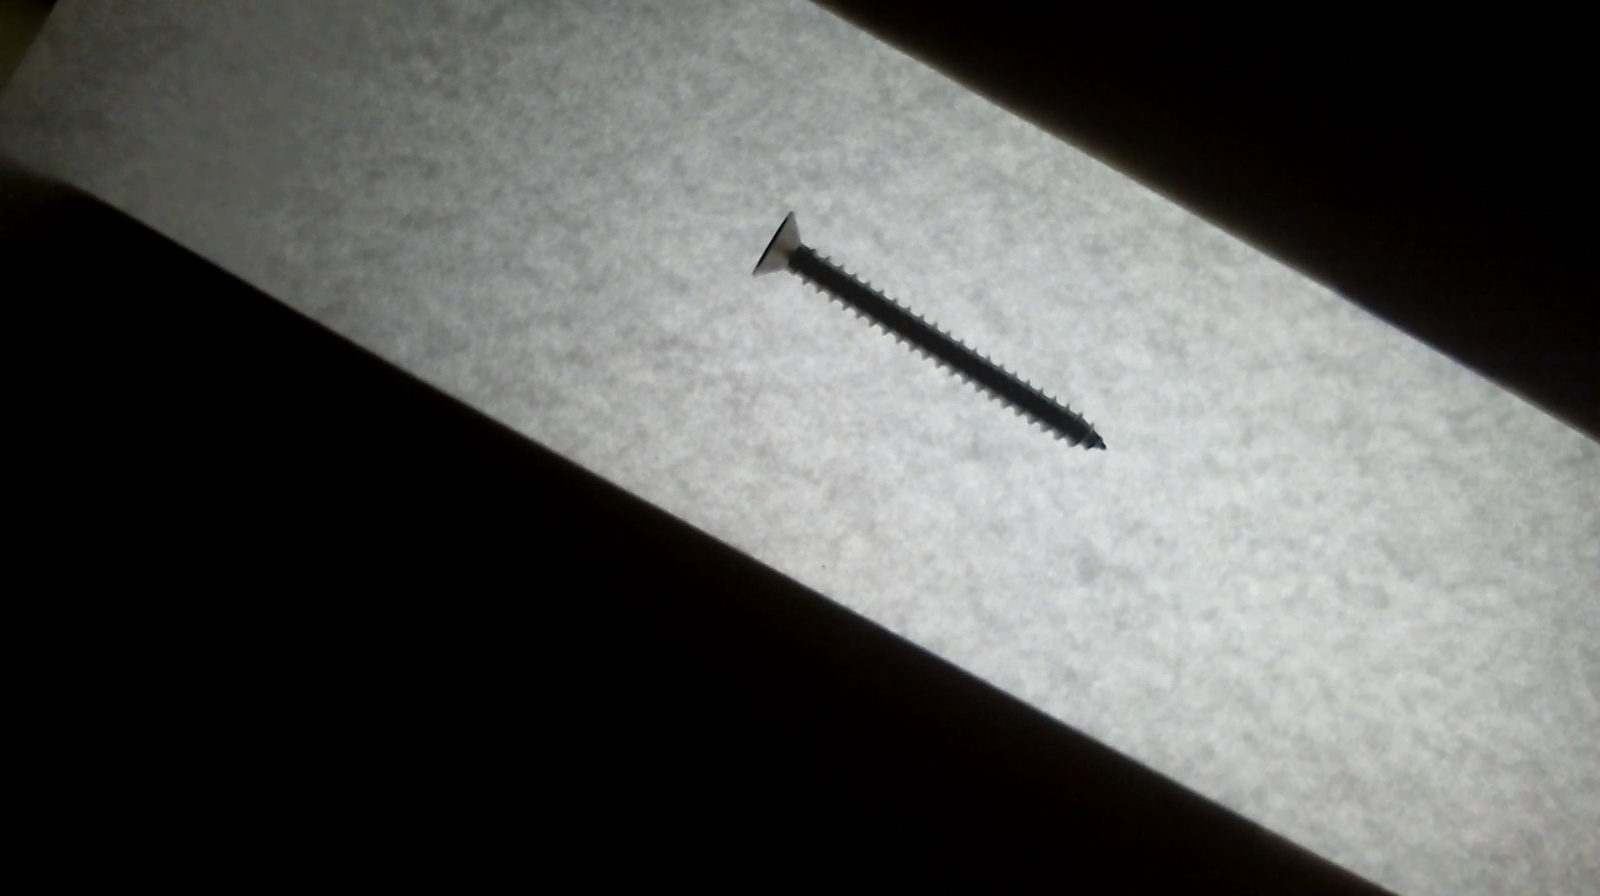S002: (736, 188, 1115, 467)
